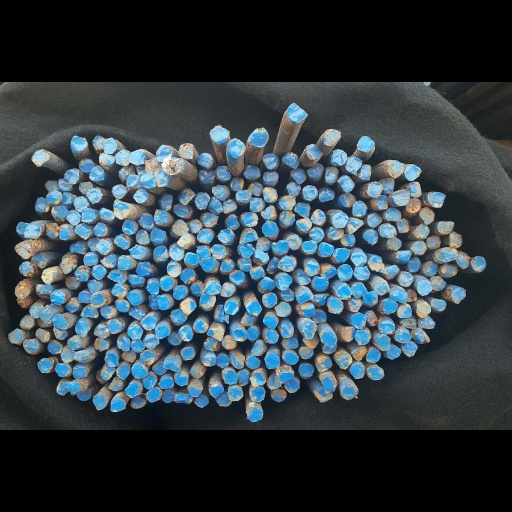dipstick: (286, 103, 307, 122), (209, 125, 229, 143), (250, 127, 268, 146), (112, 201, 130, 219), (227, 138, 245, 156), (176, 188, 195, 205), (31, 150, 49, 167), (154, 169, 172, 186), (18, 261, 36, 278), (156, 145, 173, 162), (357, 135, 374, 152), (346, 156, 362, 174), (389, 288, 407, 304), (173, 203, 192, 218), (211, 185, 231, 199), (51, 205, 68, 221), (138, 213, 154, 230), (194, 192, 210, 209), (15, 242, 32, 258), (23, 338, 40, 354), (178, 232, 194, 249), (282, 152, 299, 168), (323, 129, 340, 145), (331, 149, 347, 166), (338, 175, 354, 192), (310, 209, 326, 226), (388, 161, 404, 178), (158, 193, 173, 211), (170, 309, 188, 324), (203, 336, 221, 351), (305, 144, 323, 159), (337, 263, 352, 281), (419, 206, 434, 224), (107, 270, 127, 283), (197, 153, 213, 169), (132, 189, 148, 205), (74, 321, 90, 337), (180, 268, 196, 284), (180, 299, 196, 315), (210, 243, 226, 259), (275, 301, 291, 317), (302, 185, 318, 201), (332, 212, 348, 228), (382, 298, 398, 314), (367, 255, 383, 271), (428, 191, 444, 207), (417, 280, 433, 296), (70, 136, 87, 151), (115, 149, 130, 166), (199, 169, 216, 184), (99, 207, 114, 224), (173, 219, 188, 236), (114, 234, 131, 249), (60, 258, 77, 273), (241, 312, 258, 327), (260, 205, 277, 220), (290, 168, 307, 183), (278, 256, 295, 271), (295, 287, 312, 302), (328, 297, 343, 314), (373, 280, 390, 295), (404, 164, 419, 181), (450, 287, 465, 304), (163, 160, 181, 174), (302, 334, 320, 348), (411, 330, 430, 343), (89, 165, 104, 181), (64, 168, 79, 184), (74, 196, 89, 212), (86, 188, 101, 204), (111, 184, 127, 199), (141, 172, 156, 188), (178, 143, 193, 159), (24, 224, 40, 239), (150, 228, 166, 243), (95, 239, 111, 254), (41, 269, 57, 284), (89, 292, 105, 307), (53, 314, 69, 329), (8, 328, 24, 343), (168, 246, 184, 261), (184, 252, 199, 268), (105, 319, 121, 334), (124, 382, 140, 397), (143, 334, 158, 350), (263, 153, 279, 168), (229, 269, 244, 285), (200, 293, 216, 308), (223, 369, 238, 385), (264, 353, 280, 368), (251, 340, 266, 356), (262, 221, 277, 237), (279, 195, 295, 210), (294, 202, 310, 217), (276, 274, 291, 290), (300, 302, 315, 318), (284, 378, 300, 393), (316, 356, 332, 371), (341, 385, 357, 400), (336, 354, 352, 369), (355, 329, 370, 345), (351, 345, 366, 361), (375, 335, 390, 351), (351, 283, 367, 298), (383, 265, 399, 280), (366, 182, 382, 197), (413, 223, 429, 238), (406, 256, 421, 272), (397, 271, 413, 286), (455, 253, 470, 269), (471, 256, 486, 272), (130, 150, 147, 164), (74, 225, 91, 239), (99, 254, 116, 268), (36, 284, 53, 298), (93, 324, 110, 338), (163, 358, 180, 372), (209, 196, 223, 213), (240, 229, 257, 243), (272, 240, 289, 254), (307, 163, 324, 177), (318, 187, 335, 201), (323, 376, 337, 393), (320, 331, 337, 345), (347, 219, 364, 233), (392, 191, 409, 205), (440, 247, 457, 261), (394, 329, 411, 343), (81, 305, 99, 318), (35, 197, 50, 212), (66, 210, 81, 225), (91, 265, 106, 280), (117, 255, 132, 270), (154, 245, 169, 260), (65, 298, 80, 313), (35, 328, 50, 343), (166, 262, 181, 277), (37, 358, 52, 373), (140, 350, 155, 365), (146, 387, 161, 402), (190, 281, 205, 296), (247, 300, 262, 315), (221, 335, 236, 350), (216, 391, 231, 406), (247, 406, 262, 421), (262, 292, 277, 307), (309, 227, 324, 242), (366, 348, 381, 363), (351, 313, 366, 328), (313, 277, 328, 292), (334, 248, 349, 263), (379, 320, 394, 335), (363, 229, 378, 244), (352, 201, 367, 216), (423, 261, 438, 276), (430, 275, 445, 290), (46, 191, 62, 205), (122, 220, 138, 234), (136, 262, 152, 276), (65, 275, 81, 289), (111, 284, 127, 298), (131, 364, 147, 378), (242, 212, 258, 226), (205, 281, 221, 295), (236, 257, 252, 271), (238, 243, 254, 257), (249, 197, 265, 211), (279, 211, 295, 225), (287, 234, 301, 250), (302, 322, 316, 338), (337, 284, 351, 300), (305, 260, 319, 276), (354, 266, 370, 280), (380, 223, 396, 237), (405, 198, 421, 212), (401, 342, 417, 356), (154, 209, 167, 226), (128, 274, 145, 287), (230, 328, 247, 341), (316, 389, 333, 402), (367, 367, 384, 380), (449, 231, 462, 248), (440, 263, 457, 276), (45, 223, 59, 238), (59, 224, 73, 239), (93, 222, 107, 237), (203, 212, 217, 227), (74, 268, 89, 282), (15, 284, 30, 298), (38, 308, 52, 323), (20, 314, 34, 329), (47, 340, 62, 354), (52, 326, 67, 340), (160, 276, 174, 291), (172, 285, 187, 299), (67, 336, 82, 350), (60, 348, 74, 363), (92, 395, 106, 410), (117, 365, 131, 380), (152, 361, 167, 375), (174, 371, 188, 386), (216, 165, 230, 180), (248, 182, 263, 196), (263, 187, 277, 202), (222, 199, 237, 213), (218, 229, 233, 243), (178, 326, 192, 341), (228, 387, 243, 401), (250, 387, 265, 401), (263, 314, 278, 328), (249, 265, 264, 279), (254, 250, 268, 265), (287, 181, 301, 196), (296, 218, 311, 232), (299, 363, 314, 377), (350, 364, 365, 378), (302, 240, 317, 254), (318, 242, 333, 256), (363, 291, 378, 305), (351, 252, 366, 266), (340, 193, 355, 207), (367, 213, 382, 227), (407, 182, 421, 197), (397, 218, 411, 233), (426, 235, 441, 249), (416, 303, 431, 317), (103, 138, 116, 154), (126, 174, 142, 187), (136, 229, 149, 245), (87, 279, 103, 292), (100, 305, 116, 318), (103, 354, 119, 367), (127, 325, 143, 338), (244, 165, 260, 178), (220, 283, 236, 296), (325, 167, 338, 183), (385, 208, 401, 221), (358, 165, 371, 181), (277, 371, 294, 383), (418, 317, 435, 329), (69, 243, 87, 254), (81, 208, 95, 222), (50, 291, 64, 305), (127, 291, 141, 305), (141, 316, 155, 330), (110, 397, 124, 411), (109, 377, 123, 391), (117, 337, 131, 351), (142, 375, 156, 389), (167, 331, 181, 345), (224, 301, 238, 315), (201, 352, 215, 366), (230, 354, 244, 368), (250, 372, 264, 386), (267, 375, 281, 389), (264, 329, 278, 343), (256, 237, 270, 251), (341, 327, 355, 341), (386, 345, 400, 359), (348, 298, 362, 312), (341, 232, 355, 246), (79, 159, 94, 172), (57, 178, 72, 191), (78, 181, 93, 194), (115, 299, 130, 312), (129, 307, 144, 320), (55, 363, 70, 376), (76, 388, 91, 401), (159, 376, 174, 389), (226, 214, 239, 229), (197, 230, 212, 243), (199, 257, 214, 270), (220, 258, 235, 271), (193, 320, 208, 333), (260, 277, 275, 290), (263, 171, 278, 184), (280, 322, 293, 337), (299, 346, 314, 359), (295, 271, 310, 284), (321, 266, 336, 279), (411, 241, 426, 254), (99, 153, 115, 165), (130, 397, 146, 409), (270, 389, 286, 401), (235, 190, 251, 202), (283, 352, 299, 364), (365, 310, 377, 326), (328, 227, 344, 239), (438, 221, 454, 233), (400, 317, 416, 329), (16, 297, 33, 308), (207, 329, 224, 340), (281, 338, 298, 349), (61, 193, 75, 206), (15, 221, 29, 234), (188, 219, 201, 233), (83, 252, 97, 265), (29, 304, 42, 318), (157, 296, 170, 310), (74, 350, 88, 363), (73, 365, 87, 378), (95, 369, 108, 383), (188, 383, 202, 396), (194, 395, 208, 408), (131, 339, 144, 353), (155, 325, 168, 339), (231, 176, 244, 190), (280, 288, 294, 301), (94, 338, 109, 350), (209, 385, 224, 397), (382, 178, 394, 193), (431, 299, 446, 311), (162, 389, 175, 402), (190, 365, 203, 378), (216, 354, 229, 367), (87, 237, 99, 251), (147, 280, 159, 294), (196, 246, 210, 258), (247, 326, 259, 340), (246, 356, 260, 368), (312, 311, 326, 323), (387, 238, 401, 250), (376, 195, 388, 209), (238, 371, 249, 386), (397, 306, 412, 317), (93, 135, 105, 148), (78, 291, 91, 303), (68, 382, 81, 394), (181, 347, 194, 359), (45, 180, 59, 191), (121, 351, 135, 362), (397, 251, 410, 262), (148, 295, 158, 309), (406, 289, 417, 301), (57, 383, 67, 395)
